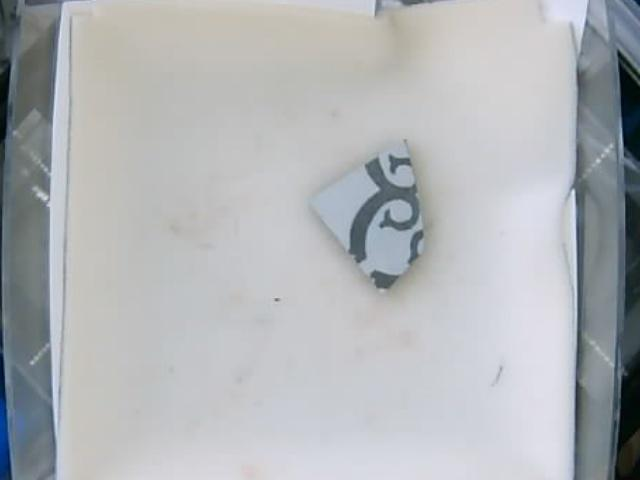China: (317, 138, 422, 295)
